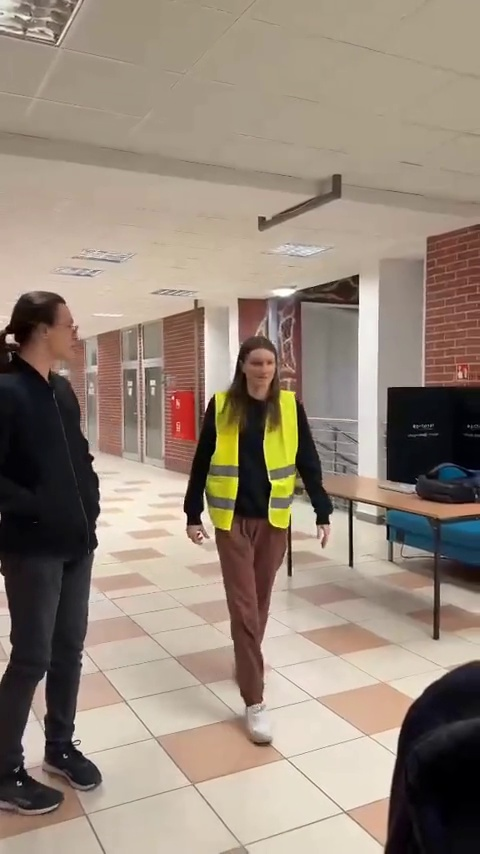no vest: (0, 282, 108, 812)
vest: (184, 334, 336, 742)
